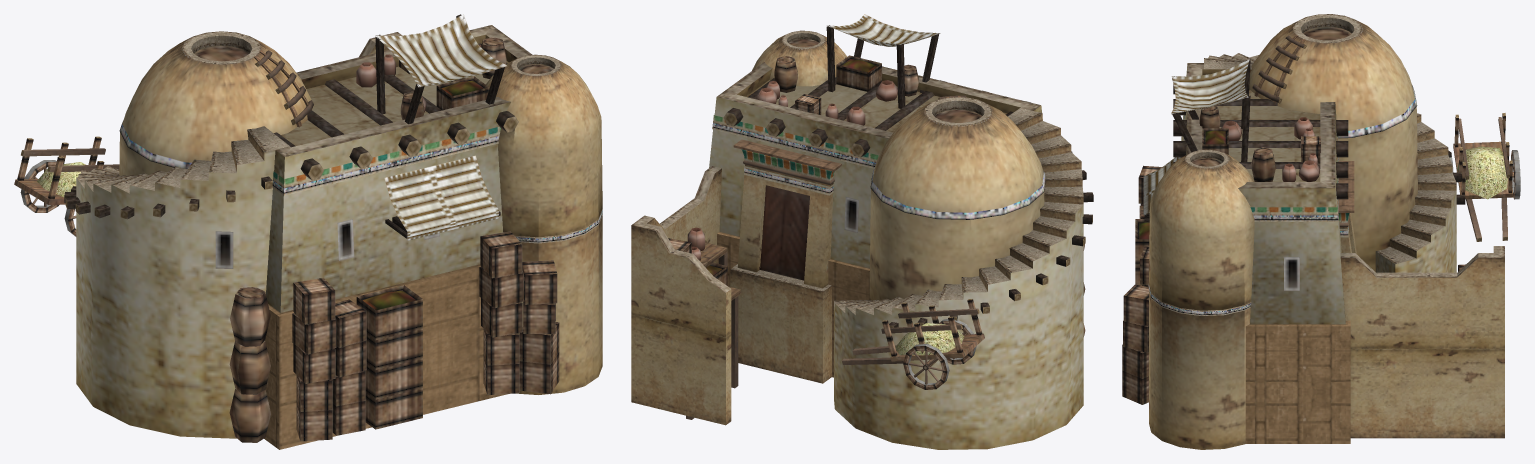
File: ptol_farmstead.glb
3 views of the same model, side by side, from view 1: azimuth 30°, elevation 25°; view 2: azimuth 150°, elevation 25°; view 3: azimuth 270°, elevation 25° (orthographic). The views are drawn at different scales.
Visible parts, largest first — view 1: ptol_farmstead_part0, ptol_farmstead_part1, ptol_farmstead_part2; view 2: ptol_farmstead_part0, ptol_farmstead_part1, ptol_farmstead_part2; view 3: ptol_farmstead_part0, ptol_farmstead_part1, ptol_farmstead_part2.
Boxes of the visible parts, x1,y1,x2,y2 form: ptol_farmstead_part0: (64, 14, 602, 449); ptol_farmstead_part1: (14, 136, 119, 236); ptol_farmstead_part2: (37, 162, 85, 197); ptol_farmstead_part0: (631, 14, 1093, 449); ptol_farmstead_part1: (842, 299, 984, 389); ptol_farmstead_part2: (895, 323, 964, 355); ptol_farmstead_part0: (1122, 14, 1504, 449); ptol_farmstead_part1: (1449, 113, 1520, 241); ptol_farmstead_part2: (1457, 146, 1507, 199).
Bounding box in the file's own units: 3.2 × 2.49 × 2.85.
2 materials, 2 textured.
